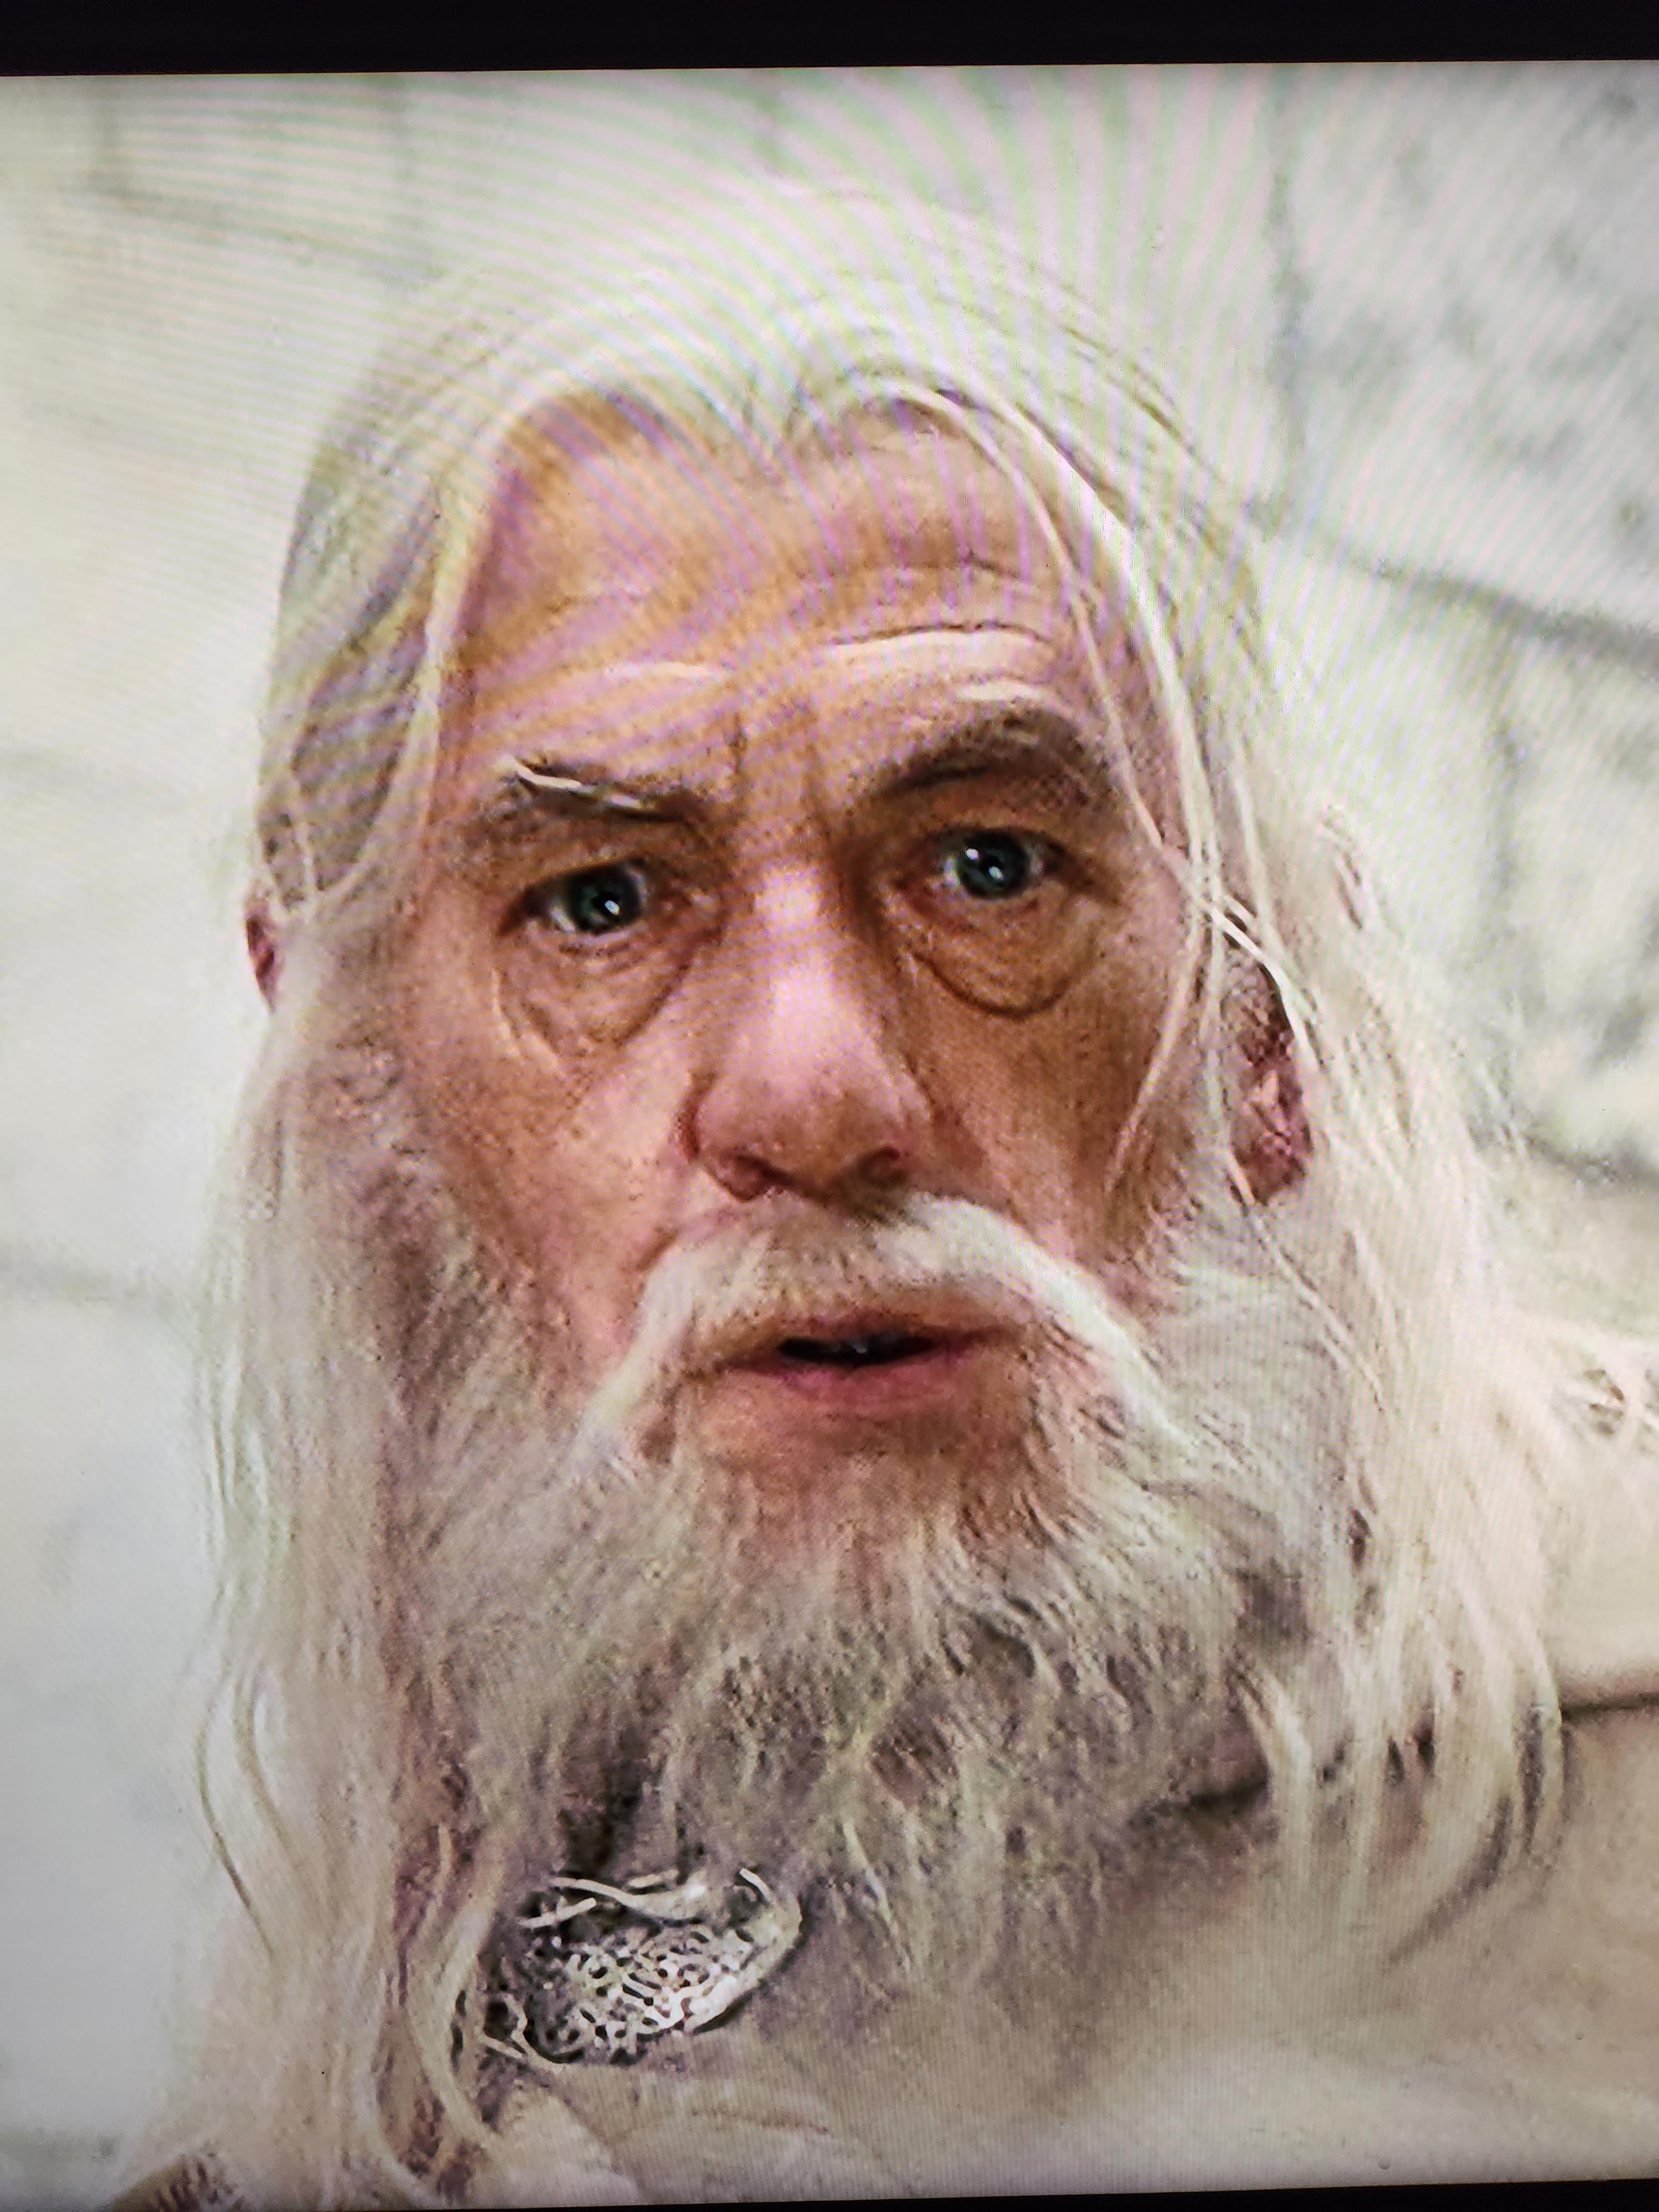gandalf gray: (192, 186, 1607, 2161)
